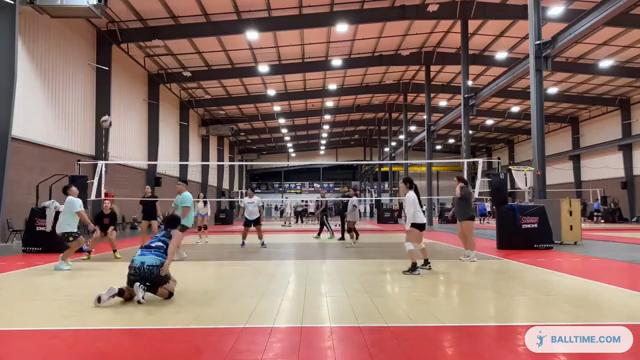difesa: (52, 183, 97, 273)
